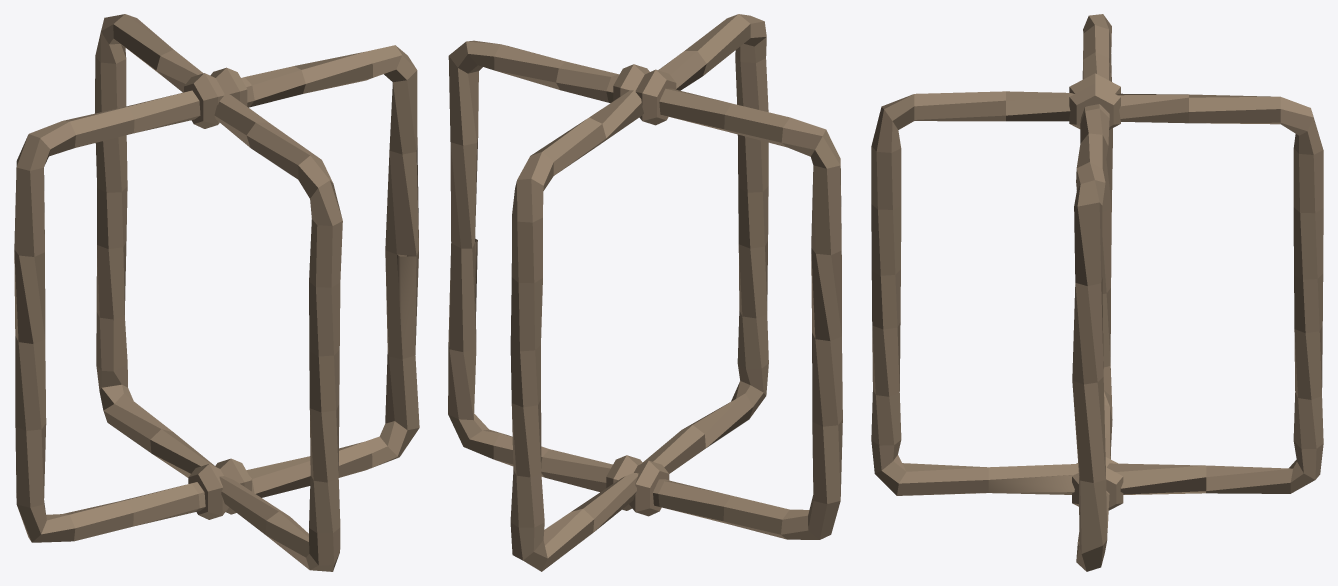
Rendered from SM_Prop_Crate_01_Insert_01.fbx.
3 renders of one model, left to right at view 1: azimuth 30°, elevation 25°; view 2: azimuth 150°, elevation 25°; view 3: azimuth 270°, elevation 25°, orthographic. The views are drawn at different scales.
Visible parts, largest first — view 1: SM_Prop_Crate_01_Insert_01; view 2: SM_Prop_Crate_01_Insert_01; view 3: SM_Prop_Crate_01_Insert_01.
Part boxes in pixels (<box>): SM_Prop_Crate_01_Insert_01: <box>14,14,419,571</box>; SM_Prop_Crate_01_Insert_01: <box>448,14,842,571</box>; SM_Prop_Crate_01_Insert_01: <box>871,14,1323,571</box>.
Size of the model in its own units: 73.31 by 79.53 by 75.75.
